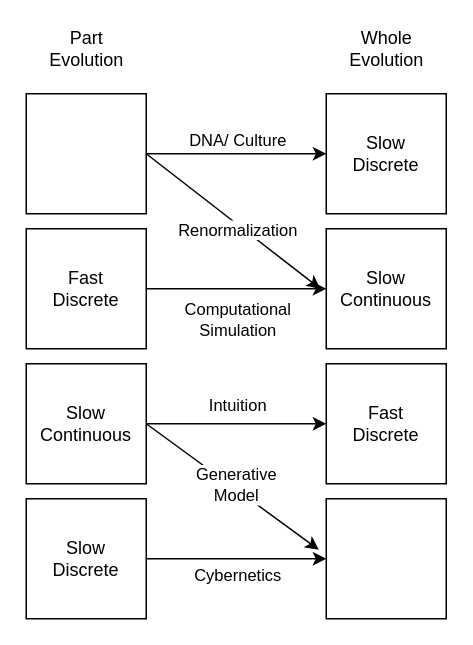
Some shapes in this 473 by 645 pixel diagram are drawn without their labels. The shapes that lost their labels are listed below. From the top down, each one's centre as x and y in pixels, then its label:
At pixel 85 153: "Fast Continous".
At pixel 385 558: "Fast Continuous".
